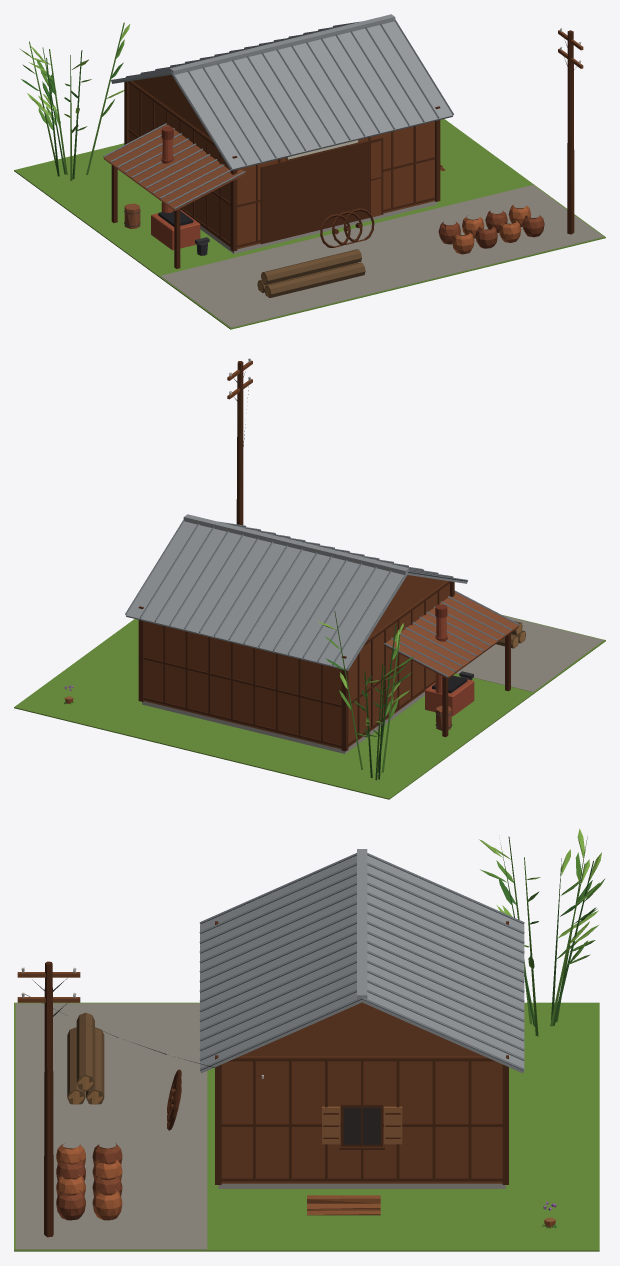
The model's file is factory_1.glb.
3 renders of one model, top to bottom at view 1: azimuth 30°, elevation 25°; view 2: azimuth 150°, elevation 25°; view 3: azimuth 270°, elevation 25°, orthographic. The views are drawn at different scales.
Parts seen in each view (by area): view 1: body; view 2: body; view 3: body, windows.
Part boxes in pixels (bbox=[...]): body: bbox=[14, 14, 605, 329]; body: bbox=[14, 358, 605, 799]; body: bbox=[14, 829, 605, 1251]; windows: bbox=[343, 1107, 380, 1144].
Size of the model in its own units: 16.01 by 8.38 by 16.07.
